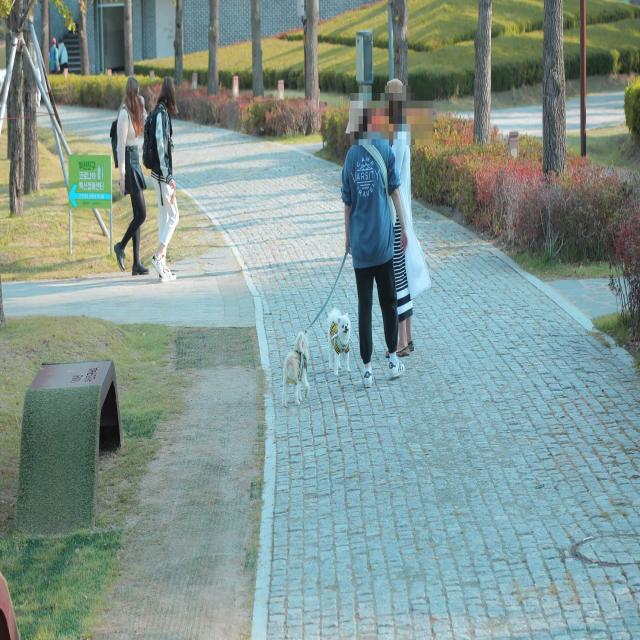Leashed_Dog: (281, 236, 372, 409), (328, 253, 372, 379)
